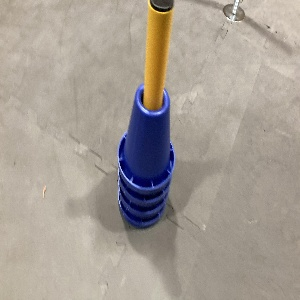Blue_4: (113, 78, 180, 232)
